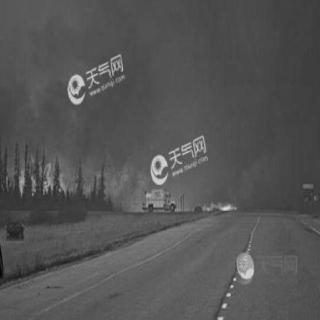Fire: (8, 143, 144, 209)
Smoke: (73, 4, 317, 156)
